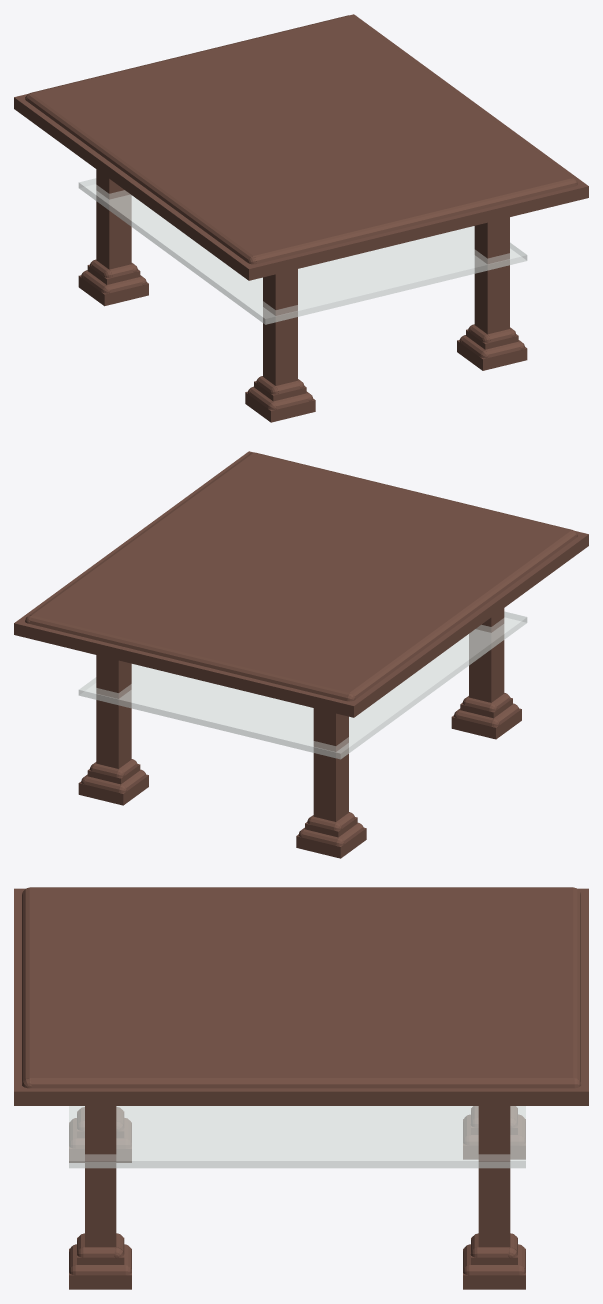
The model's file is sidetable.obj.
The picture shows the model from 3 angles, top to bottom: view 1: azimuth 30°, elevation 25°; view 2: azimuth 150°, elevation 25°; view 3: azimuth 270°, elevation 25°; orthographic projection. The views are drawn at different scales.
Visible parts, largest first — view 1: group908856667, group1983041400, group96281244, group1160852094, group1657133928, group525750151, group1985004311, group1954466421, group1298719142; view 2: group908856667, group1983041400, group96281244, group1347832258, group525750151, group1657133928, group344195597, group1954466421, group1298719142; view 3: group908856667, group1983041400, group96281244, group1347832258, group1160852094, group1298719142, group1657133928, group525750151, group1985004311, group344195597, group1954466421.
Part boxes in pixels (left/top/right/bottom): group908856667: left=32, top=16, right=570, bottom=255; group1983041400: left=78, top=178, right=527, bottom=324; group96281244: left=14, top=14, right=588, bottom=280; group1160852094: left=457, top=217, right=527, bottom=370; group1657133928: left=245, top=269, right=315, bottom=422; group525750151: left=78, top=169, right=148, bottom=306; group1985004311: left=254, top=178, right=574, bottom=263; group1954466421: left=26, top=93, right=252, bottom=262; group1298719142: left=350, top=16, right=573, bottom=178; group908856667: left=32, top=453, right=570, bottom=692; group1983041400: left=78, top=611, right=527, bottom=759; group96281244: left=14, top=451, right=588, bottom=717; group1347832258: left=78, top=655, right=148, bottom=805; group525750151: left=296, top=708, right=366, bottom=858; group1657133928: left=451, top=608, right=521, bottom=739; group344195597: left=29, top=615, right=348, bottom=700; group1954466421: left=350, top=530, right=576, bottom=699; group1298719142: left=29, top=453, right=252, bottom=615; group908856667: left=29, top=888, right=573, bottom=1077; group1983041400: left=69, top=1106, right=525, bottom=1168; group96281244: left=14, top=888, right=588, bottom=1105; group1347832258: left=463, top=1106, right=525, bottom=1289; group1160852094: left=69, top=1106, right=131, bottom=1289; group1298719142: left=30, top=1078, right=573, bottom=1088; group1657133928: left=69, top=1107, right=131, bottom=1162; group525750151: left=463, top=1106, right=525, bottom=1159; group1985004311: left=22, top=888, right=29, bottom=1084; group344195597: left=573, top=888, right=580, bottom=1082; group1954466421: left=30, top=887, right=572, bottom=887.
Size of the model in its own units: 0.61 by 0.32 by 0.73.
